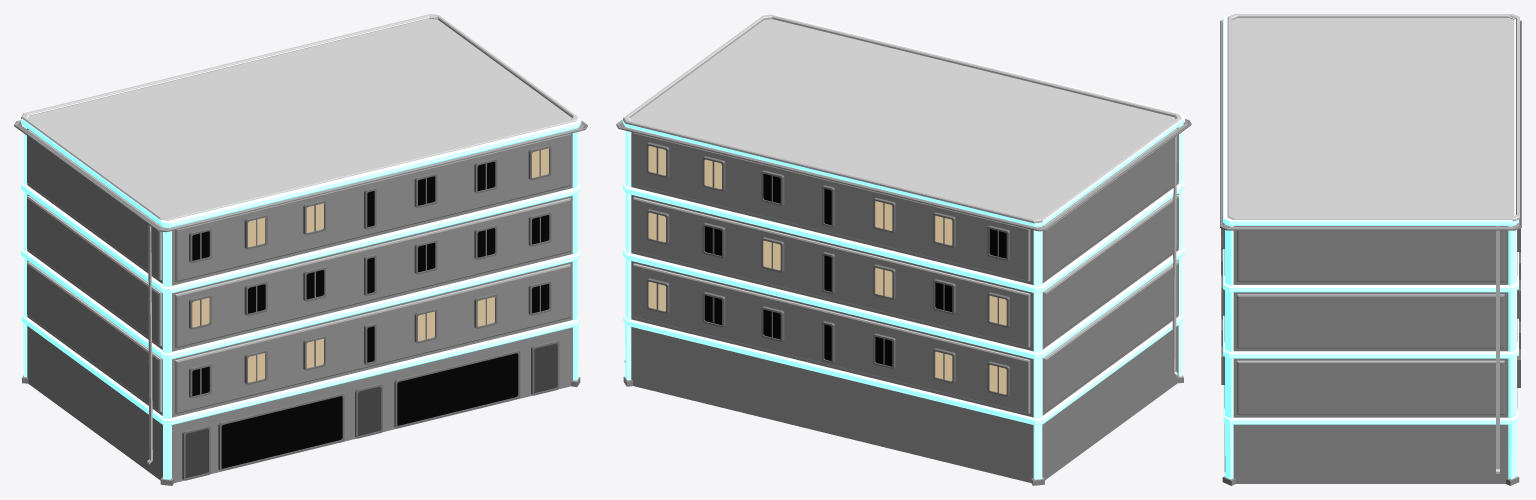
Rendered from Building_Big_0_Size_2.fbx.
The picture shows the model from 3 angles, left to right: view 1: azimuth 30°, elevation 25°; view 2: azimuth 150°, elevation 25°; view 3: azimuth 270°, elevation 25°; orthographic projection.
Parts seen in each view (by area): view 1: Building_Big_0_Size_2; view 2: Building_Big_0_Size_2; view 3: Building_Big_0_Size_2.
Part boxes in pixels (left/top/right/bottom): Building_Big_0_Size_2: left=14, top=14, right=587, bottom=485; Building_Big_0_Size_2: left=616, top=14, right=1191, bottom=485; Building_Big_0_Size_2: left=1220, top=14, right=1521, bottom=485.
Bounding box in the file's own units: 2614 × 1540 × 1579.
